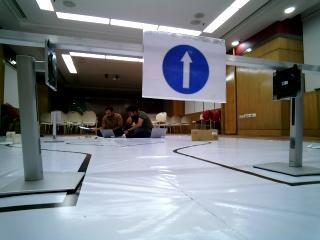straight: (140, 30, 229, 102)
